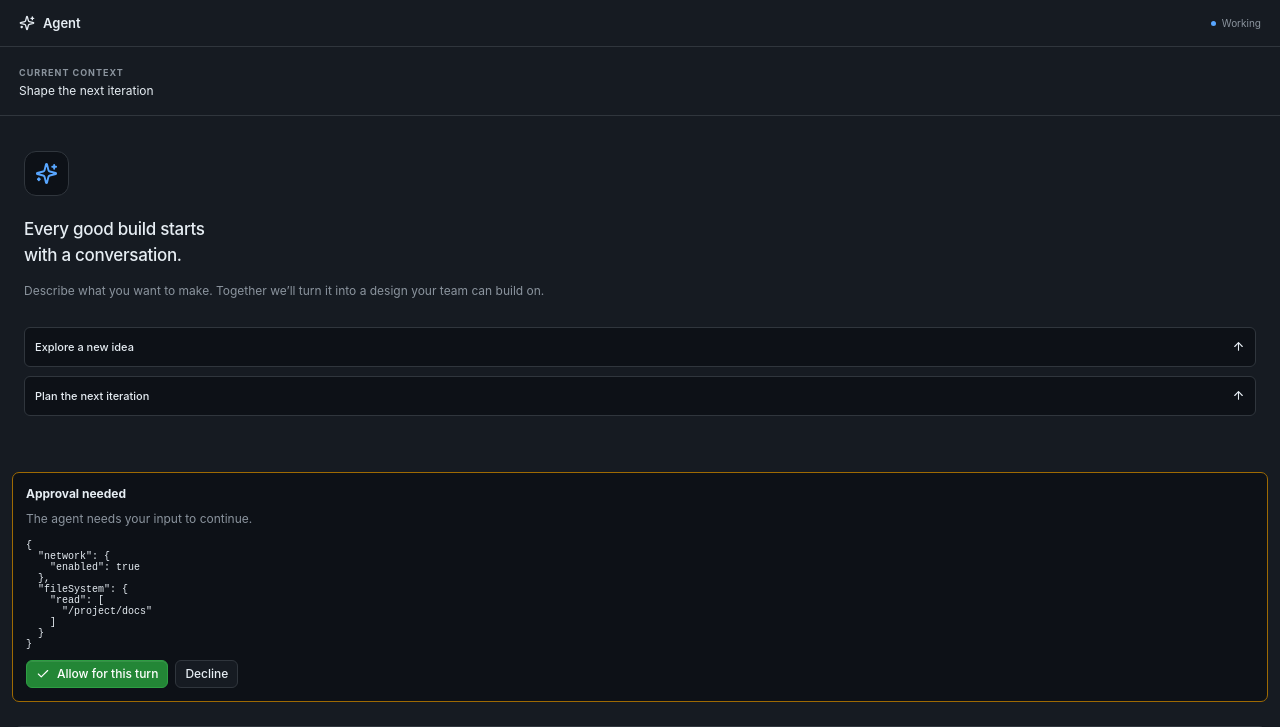
it: agent request controls › shows the requested permission scope and sends only a one-turn grant
Expected: the text "project/docs" is shown, [26,540,152,650]
What coordinates should you click on to do the following:
click the button "Allow for this turn"
I would click on:
 (97, 674)
Its box is [26,660,168,688].
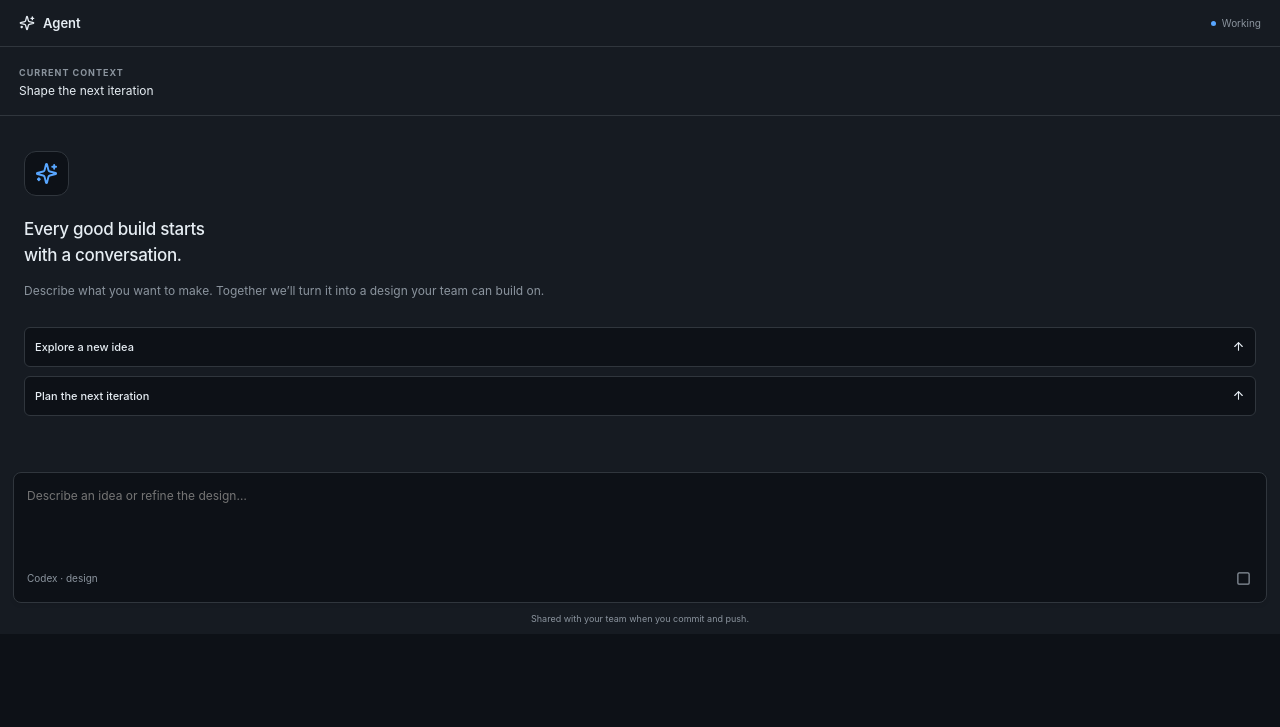
Expected: the text "Approval needed" is gone
